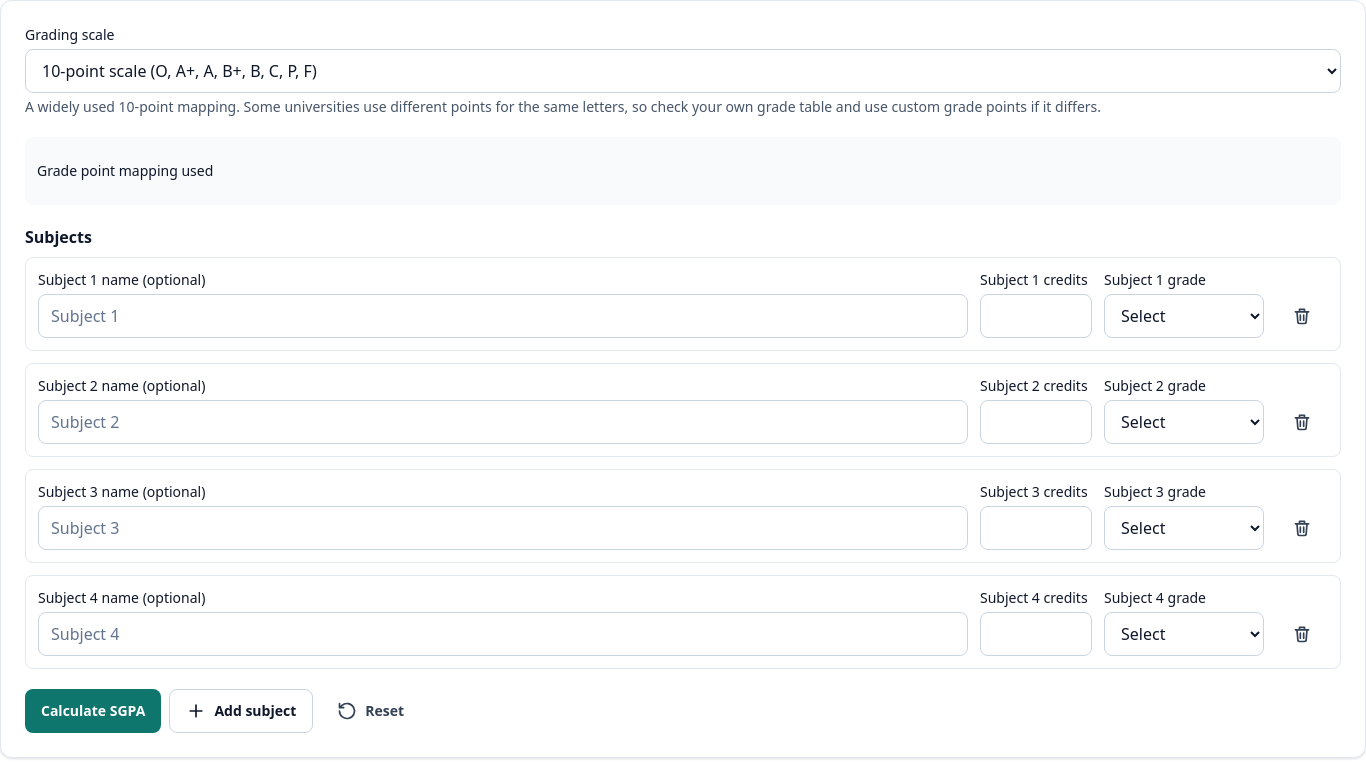
Test: SgpaCalculator › adds, removes and resets rows
Click the button "Add subject". click: [241, 711]
box: [169,689,313,733]
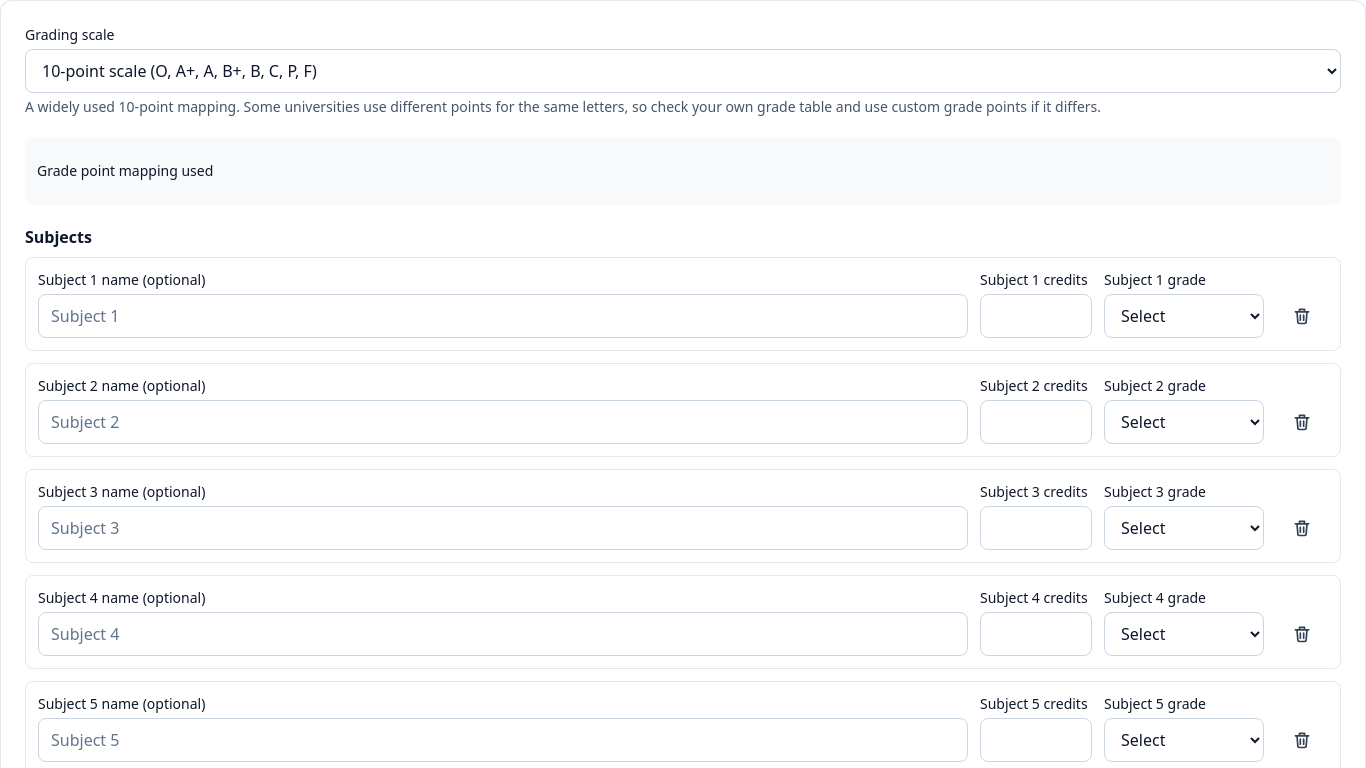
Result: the field labelled "Subject 5 credits" is shown at [980,718,1092,762]
Click the button named "Remove subject 5". click: [1302, 740]
box: [1276,718,1328,762]
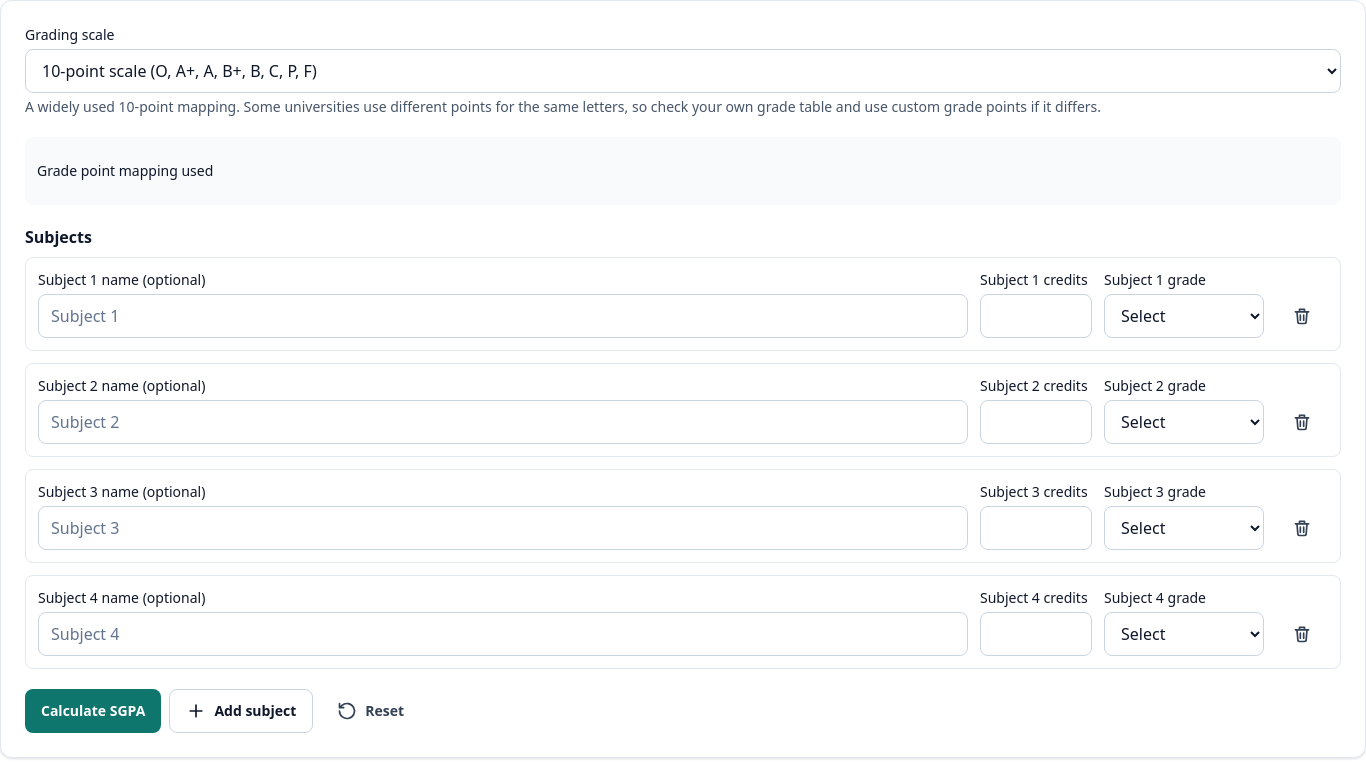
Result: the label labelled "Subject 5 credits" is gone
Type "9" into the field labelled "Subject 1 credits". click: [1036, 316]
box: [980,294,1092,338]
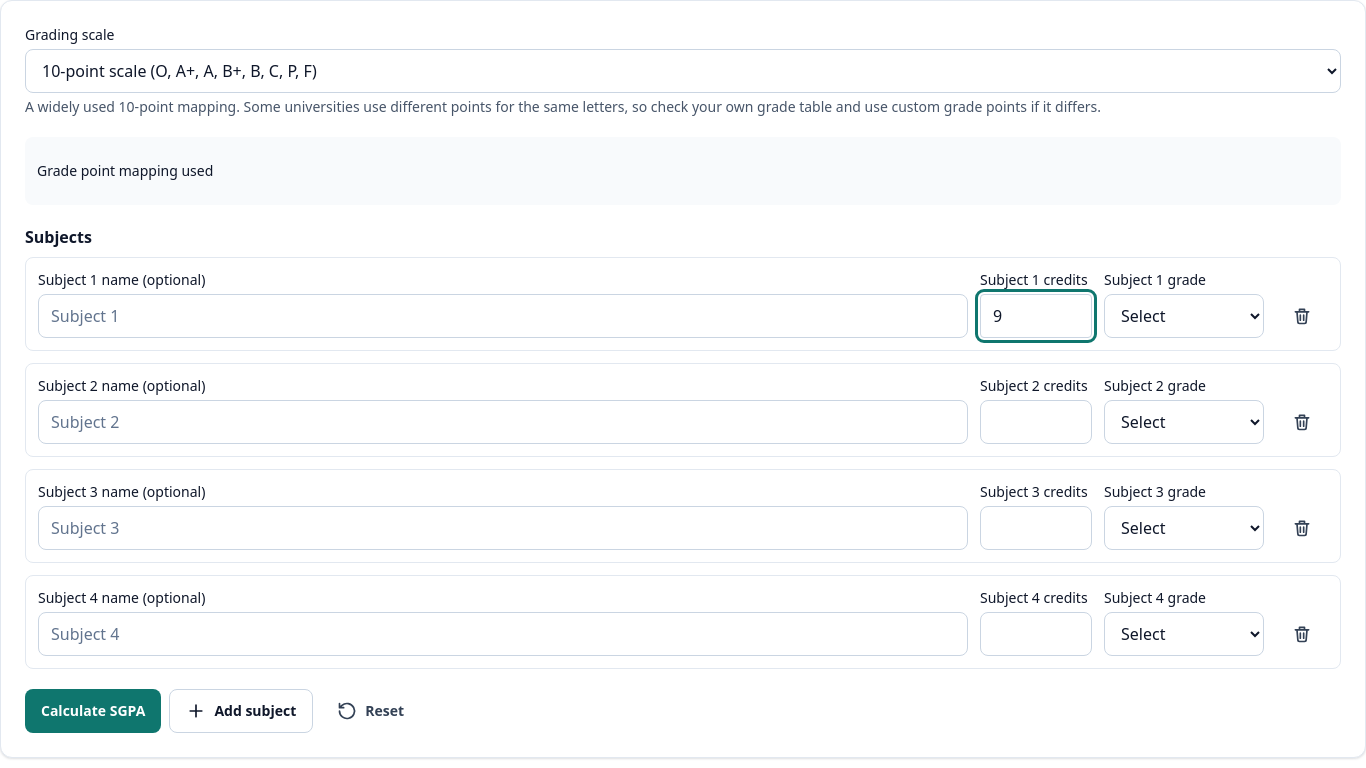
Click the button "Reset". click: [371, 711]
box: [321,689,420,733]
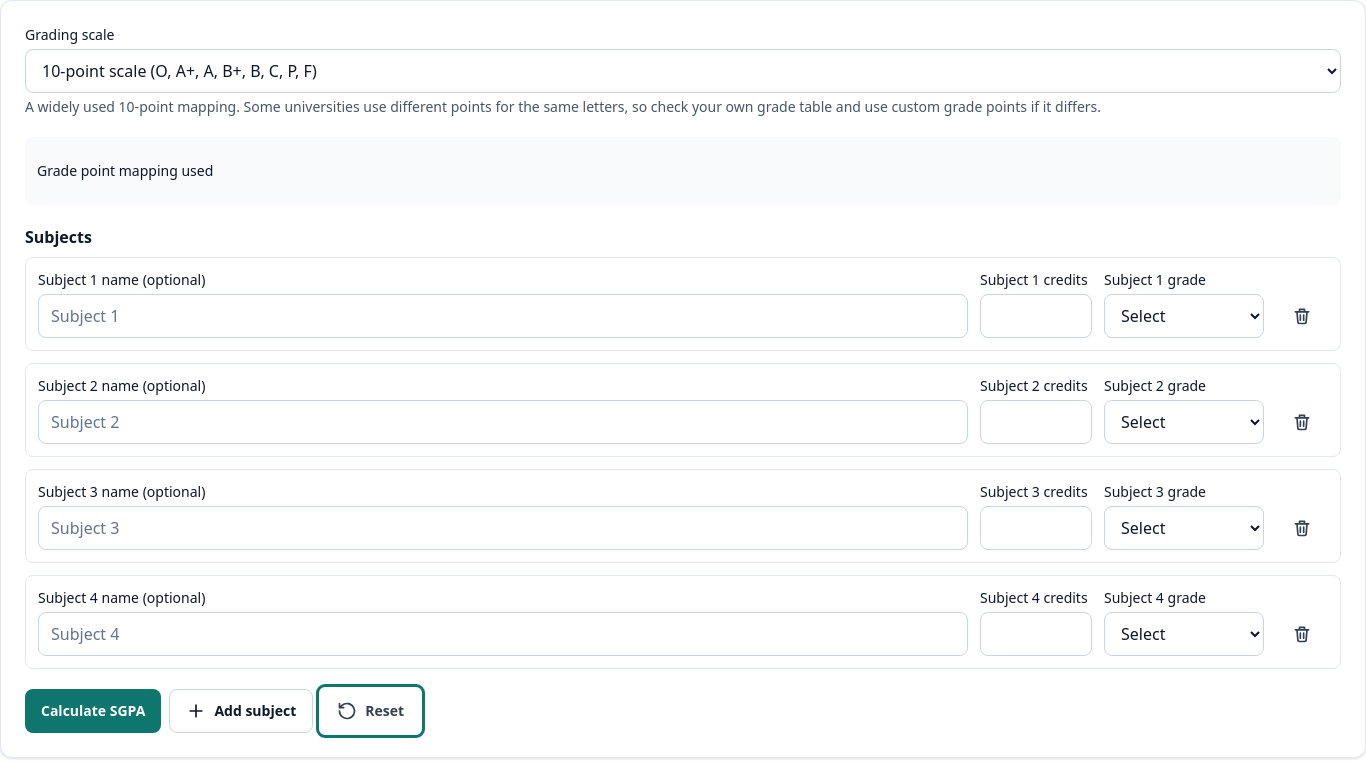
Result: the field labelled "Subject 1 credits" is empty at [980,294,1092,338]
